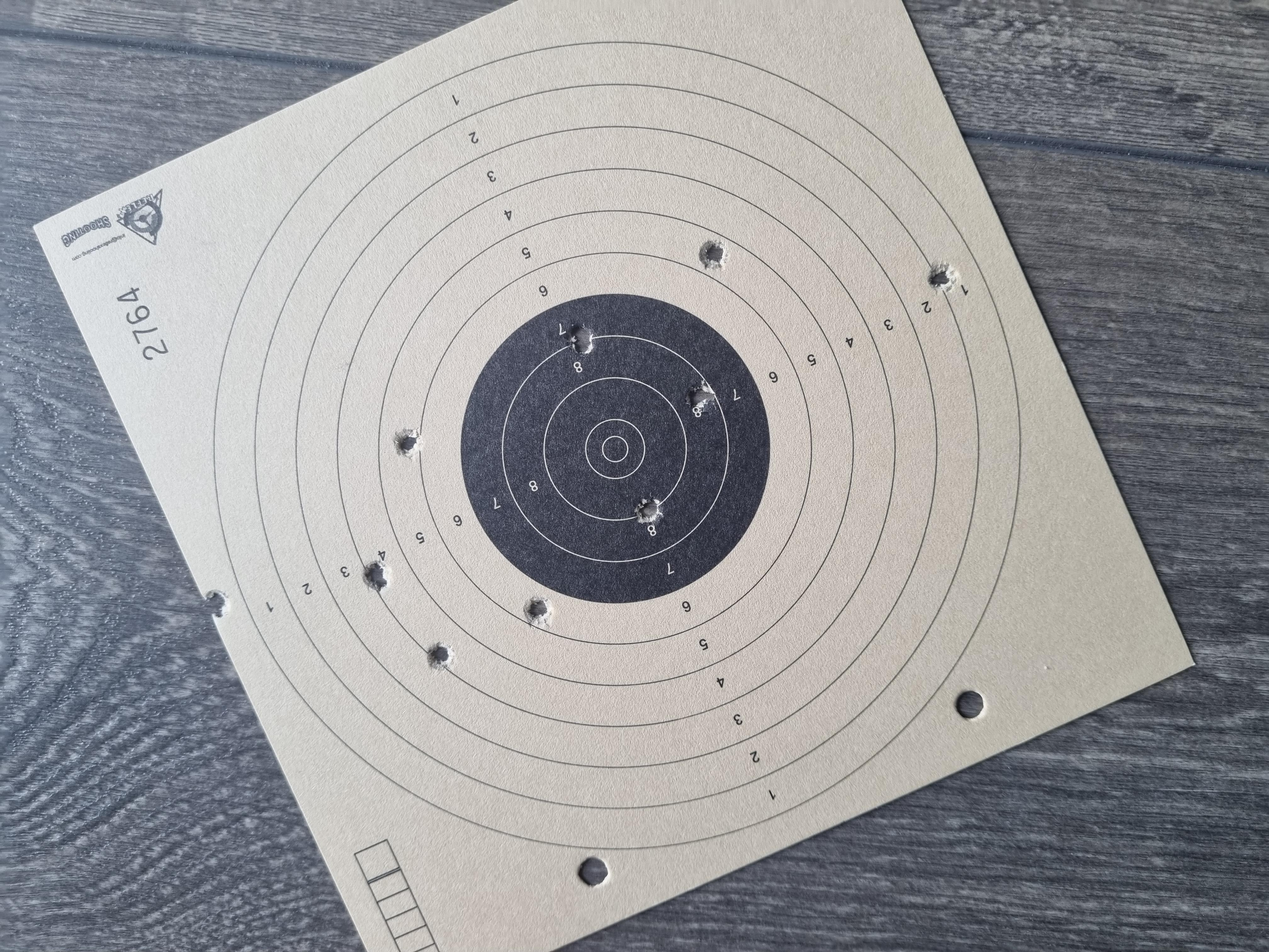hole: (650, 293, 698, 319), (878, 695, 924, 720), (568, 474, 612, 500), (718, 513, 764, 537), (433, 393, 478, 417), (908, 523, 952, 547), (371, 318, 415, 341), (476, 272, 527, 291), (442, 154, 484, 171), (793, 426, 818, 446), (813, 426, 838, 444)
